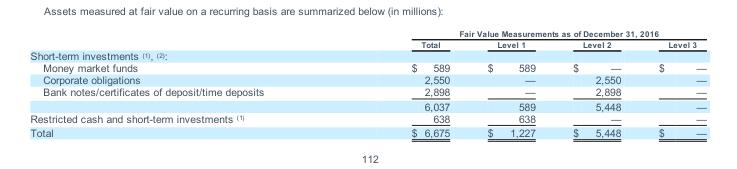table: (29, 28, 705, 138)
table column: (29, 28, 337, 138), (337, 28, 468, 138), (553, 28, 639, 138), (468, 28, 553, 138), (639, 28, 705, 138)
table column header: (29, 28, 705, 49)
table projected row header: (29, 49, 705, 61)
table row: (29, 111, 705, 125), (29, 85, 705, 98), (29, 98, 705, 111), (29, 125, 705, 138), (29, 49, 705, 61), (29, 61, 705, 73), (29, 73, 705, 85), (29, 38, 705, 49), (29, 28, 705, 38)
table spanning cell: (337, 28, 705, 38)
